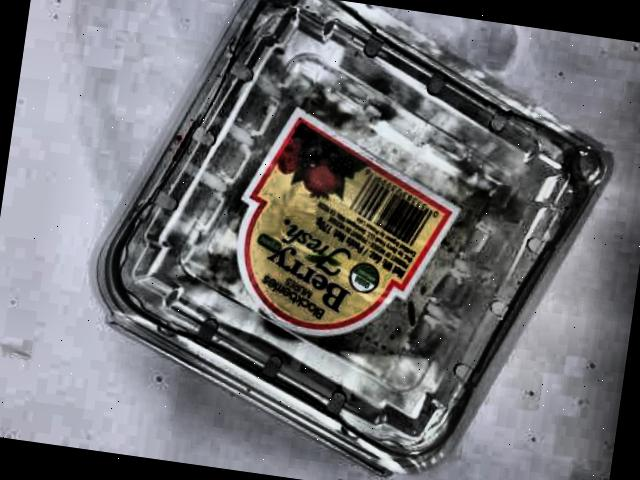Plastic: (64, 0, 633, 480)
